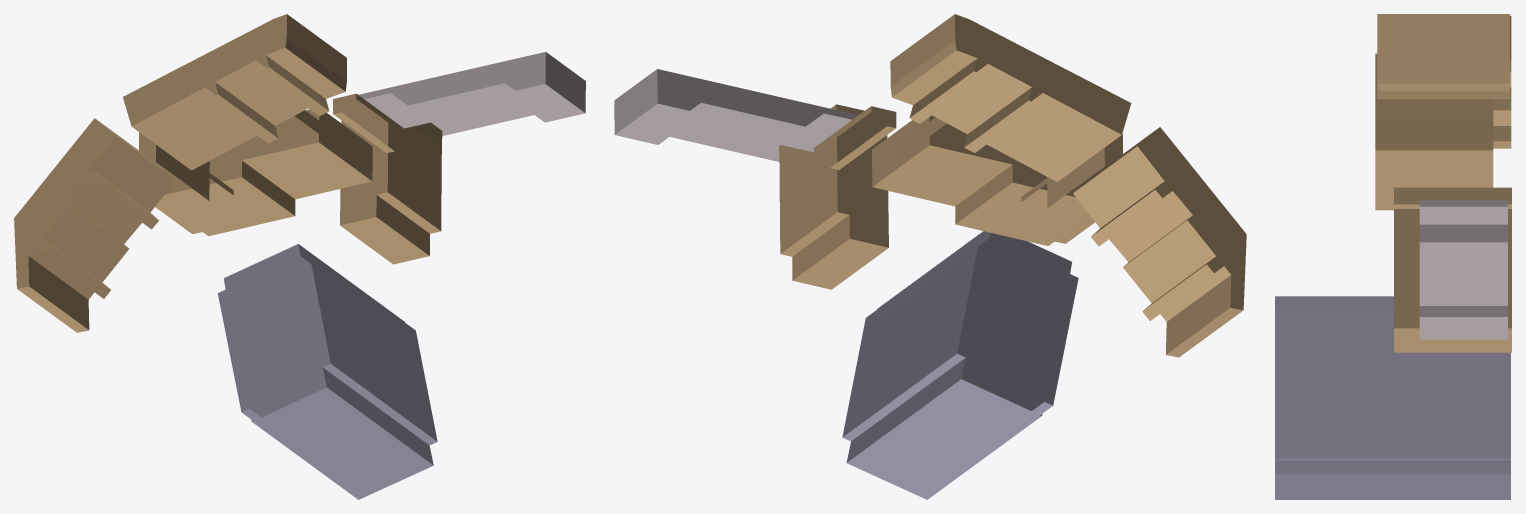
3 views of the same model, side by side, from view 1: azimuth 30°, elevation 25°; view 2: azimuth 150°, elevation 25°; view 3: azimuth 270°, elevation 25° (orthographic). The views are drawn at different scales.
Visible parts, largest first — view 1: 0_0_1_3_2_2_2; view 2: 0_0_1_3_2_2_2; view 3: 0_0_1_3_2_2_2.
Part boxes in pixels (x1,y1,x2,y2): 0_0_1_3_2_2_2: (14,14,585,499); 0_0_1_3_2_2_2: (614,14,1246,499); 0_0_1_3_2_2_2: (1275,14,1511,499).
Bounding box in the file's own units: 138 × 99.05 × 48.2.
